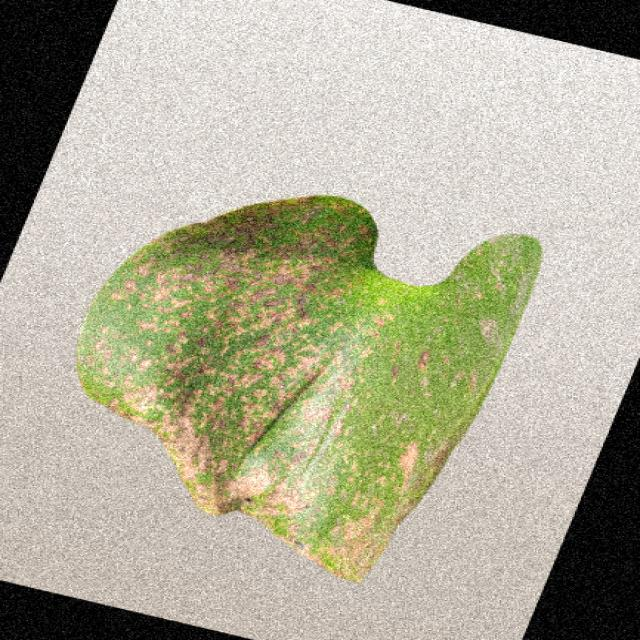daun berpenyakit bercak: (77, 196, 541, 581)
